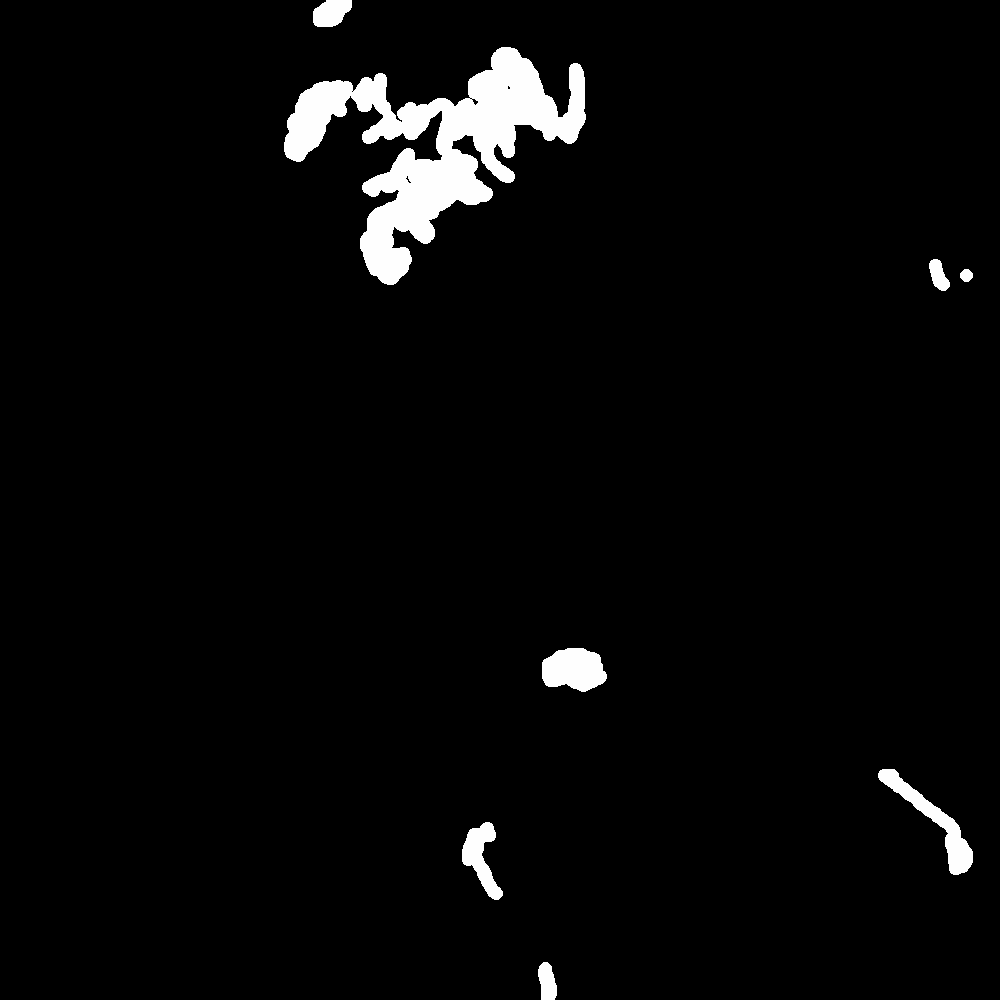illegal: (361, 45, 585, 289), (421, 582, 749, 667), (1, 543, 292, 624), (816, 248, 980, 290), (278, 80, 352, 164), (551, 652, 607, 693), (321, 1, 351, 28)
